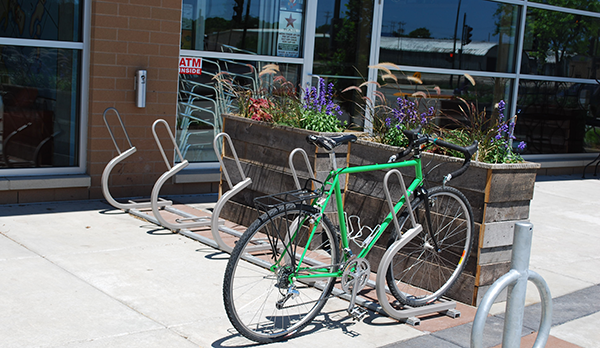bike: (206, 132, 492, 336)
